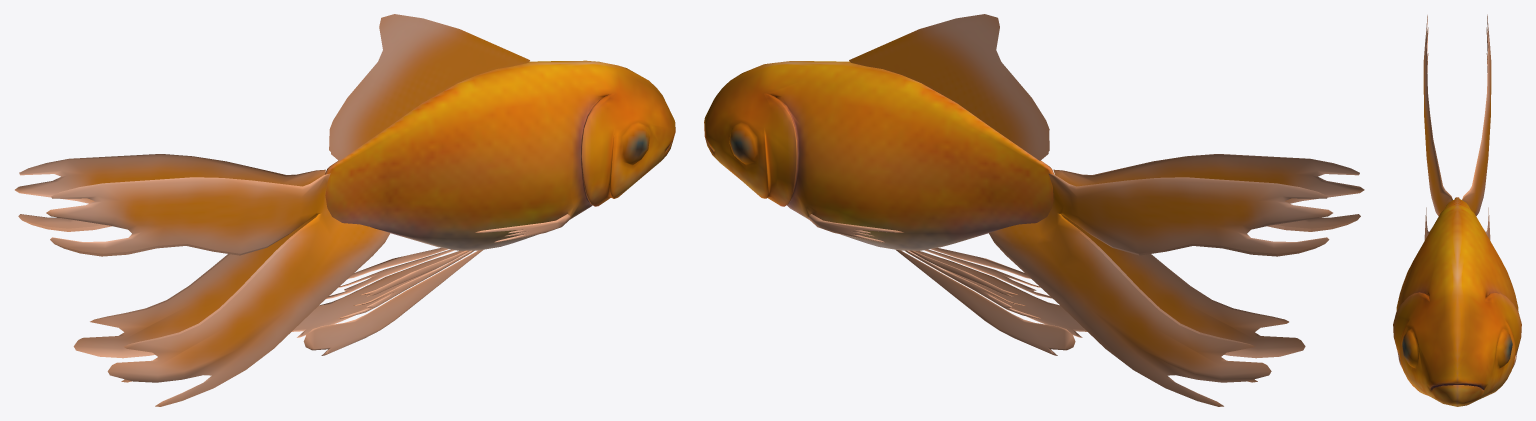
Rendered from ryba_zavojnatka.glb.
3 renders of one model, left to right at view 1: azimuth 30°, elevation 25°; view 2: azimuth 150°, elevation 25°; view 3: azimuth 270°, elevation 25°, orthographic. The views are drawn at different scales.
Parts seen in each view (by area): view 1: ryba_zavojnatka; view 2: ryba_zavojnatka; view 3: ryba_zavojnatka.
Boxes of the visible parts, x1,y1,x2,y2 form: ryba_zavojnatka: (15, 14, 675, 406); ryba_zavojnatka: (704, 14, 1364, 406); ryba_zavojnatka: (1393, 14, 1521, 406).
Bounding box in the file's own units: 0.2499 × 0.1189 × 0.0471.
1 material, 1 textured.
